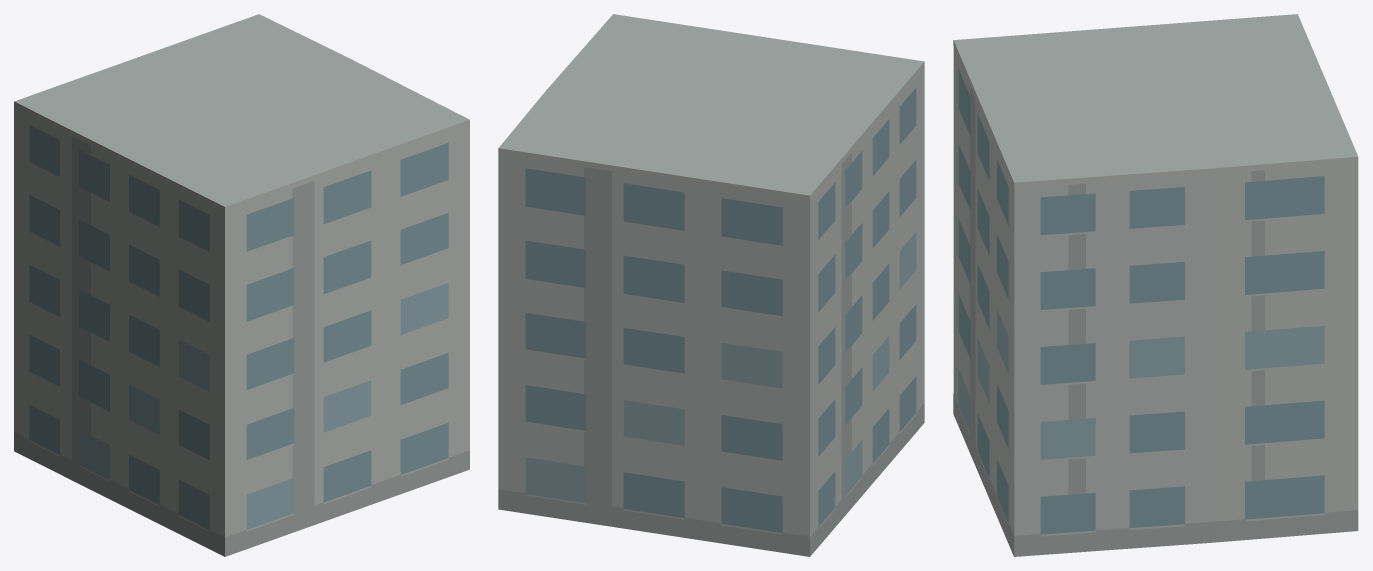
The model's file is residential-dde848ef-6e90-450a-9eb0-6952264ab7fe.glb.
3 views of the same model, side by side, from view 1: azimuth 30°, elevation 25°; view 2: azimuth 150°, elevation 25°; view 3: azimuth 270°, elevation 25° (orthographic). The views are drawn at different scales.
Visible parts, largest first — view 1: residential-dde848ef-6e90-450a-9eb0-6952264ab7fe.tmp; view 2: residential-dde848ef-6e90-450a-9eb0-6952264ab7fe.tmp; view 3: residential-dde848ef-6e90-450a-9eb0-6952264ab7fe.tmp.
Boxes of the visible parts, x1,y1,x2,y2 form: residential-dde848ef-6e90-450a-9eb0-6952264ab7fe.tmp: [14, 14, 469, 556]; residential-dde848ef-6e90-450a-9eb0-6952264ab7fe.tmp: [498, 14, 924, 556]; residential-dde848ef-6e90-450a-9eb0-6952264ab7fe.tmp: [953, 14, 1358, 556].
Size of the model in its own units: 14.75 by 15.25 by 14.96.
